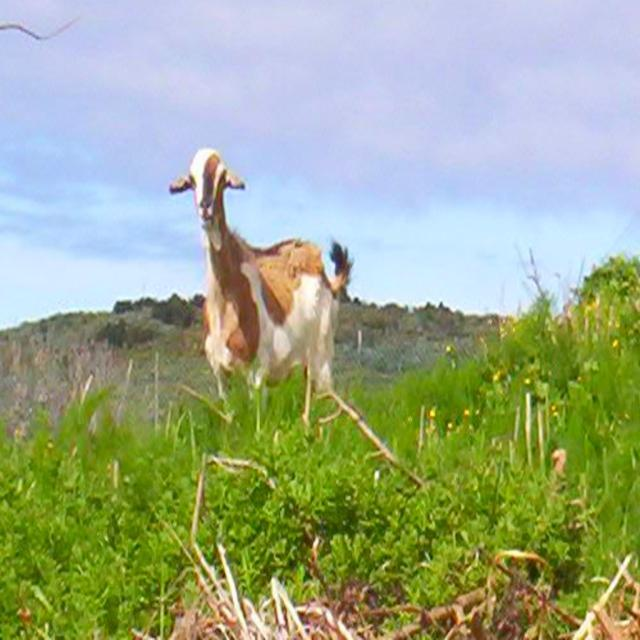Goat: (167, 143, 356, 436)
